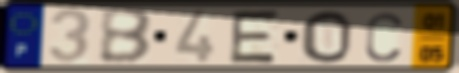3: (46, 7, 97, 67)
4: (172, 8, 217, 65)
B: (98, 7, 155, 66)
C: (363, 10, 405, 64)
E: (226, 8, 283, 65)
O: (299, 9, 353, 65)
